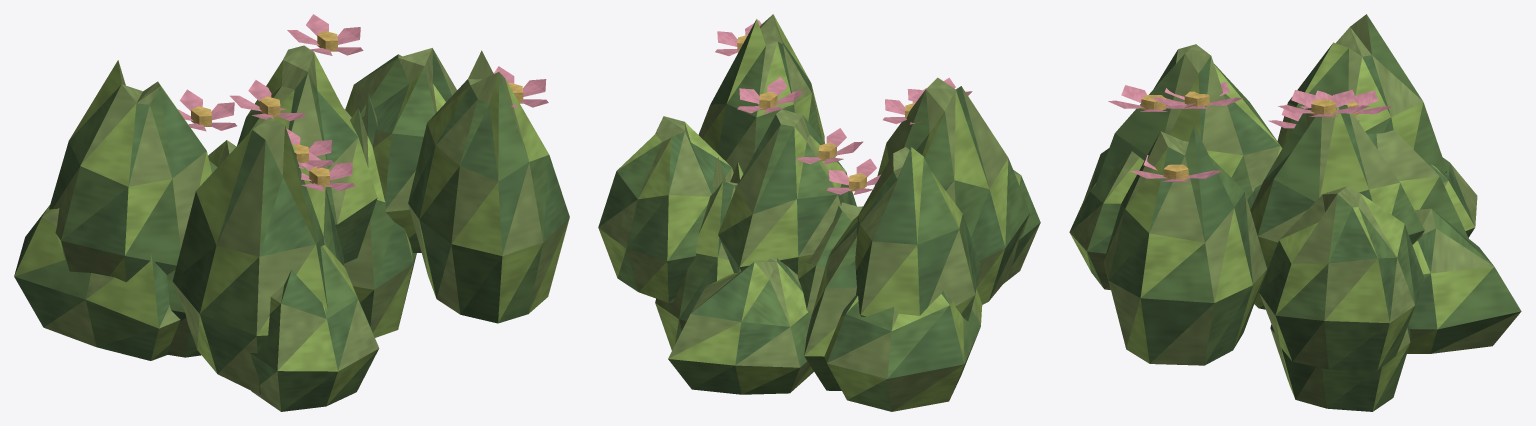
Rendered from bush_flowering_01.fbx.
The picture shows the model from 3 angles, left to right: view 1: azimuth 30°, elevation 25°; view 2: azimuth 150°, elevation 25°; view 3: azimuth 270°, elevation 25°; orthographic projection. The views are drawn at different scales.
Parts seen in each view (by area): view 1: bush_flowering_01; view 2: bush_flowering_01; view 3: bush_flowering_01.
Part boxes in pixels (box(x1,y1,x2,y2)): bush_flowering_01: box(14, 14, 569, 411); bush_flowering_01: box(598, 14, 1040, 411); bush_flowering_01: box(1069, 14, 1521, 411).
Bounding box in the file's own units: 143 × 100 × 142.
1 material, 1 textured.
